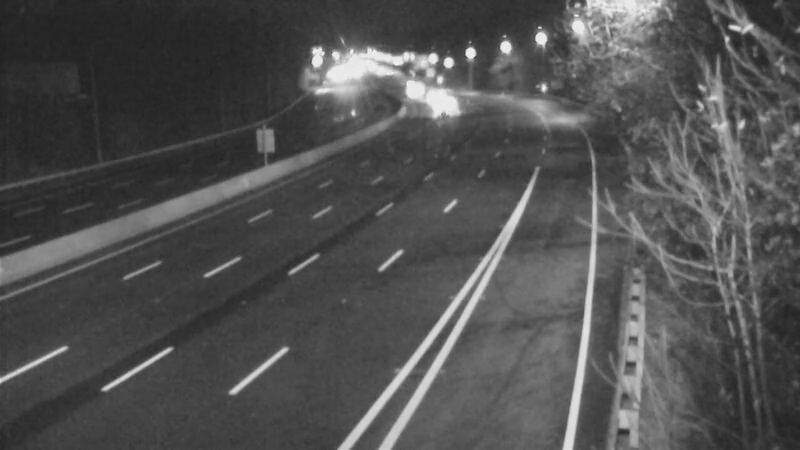vehicle: (390, 65, 440, 115), (411, 70, 461, 120), (420, 75, 470, 125), (420, 87, 470, 137)
